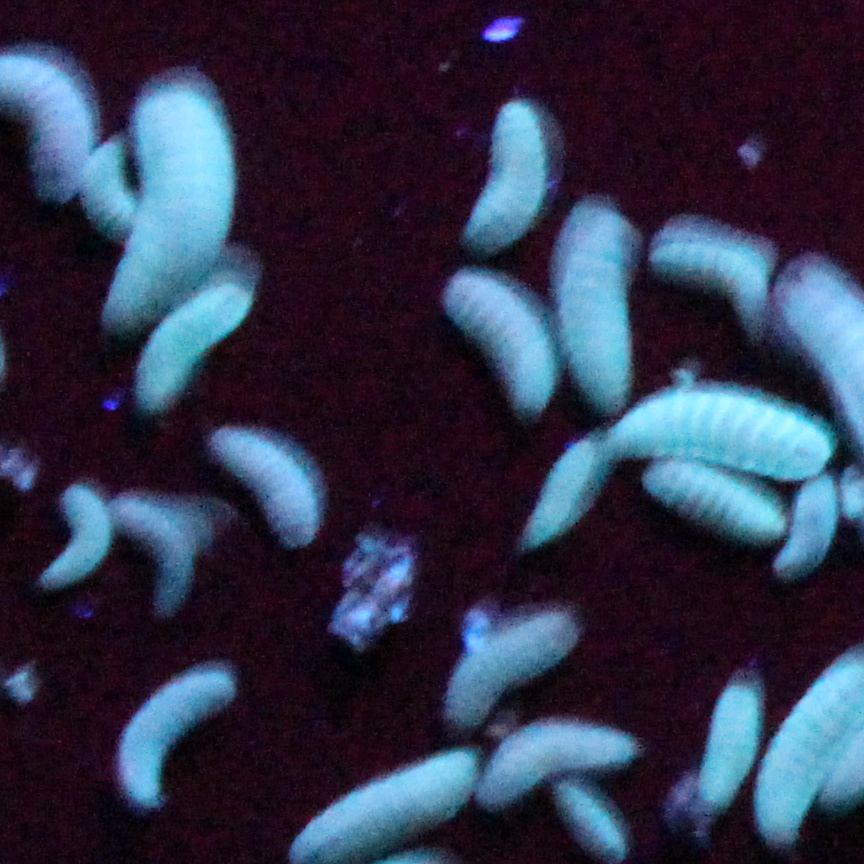larve: (104, 87, 234, 323), (606, 390, 829, 479), (443, 271, 554, 411), (121, 670, 234, 806), (558, 212, 633, 414), (447, 614, 577, 721), (142, 279, 251, 404), (211, 426, 318, 546), (479, 723, 632, 806), (463, 101, 547, 248), (645, 463, 784, 541), (651, 241, 763, 324), (107, 499, 190, 609), (522, 439, 598, 545), (44, 483, 110, 588), (698, 684, 753, 804), (776, 479, 837, 576), (556, 784, 624, 861), (81, 142, 134, 235)
